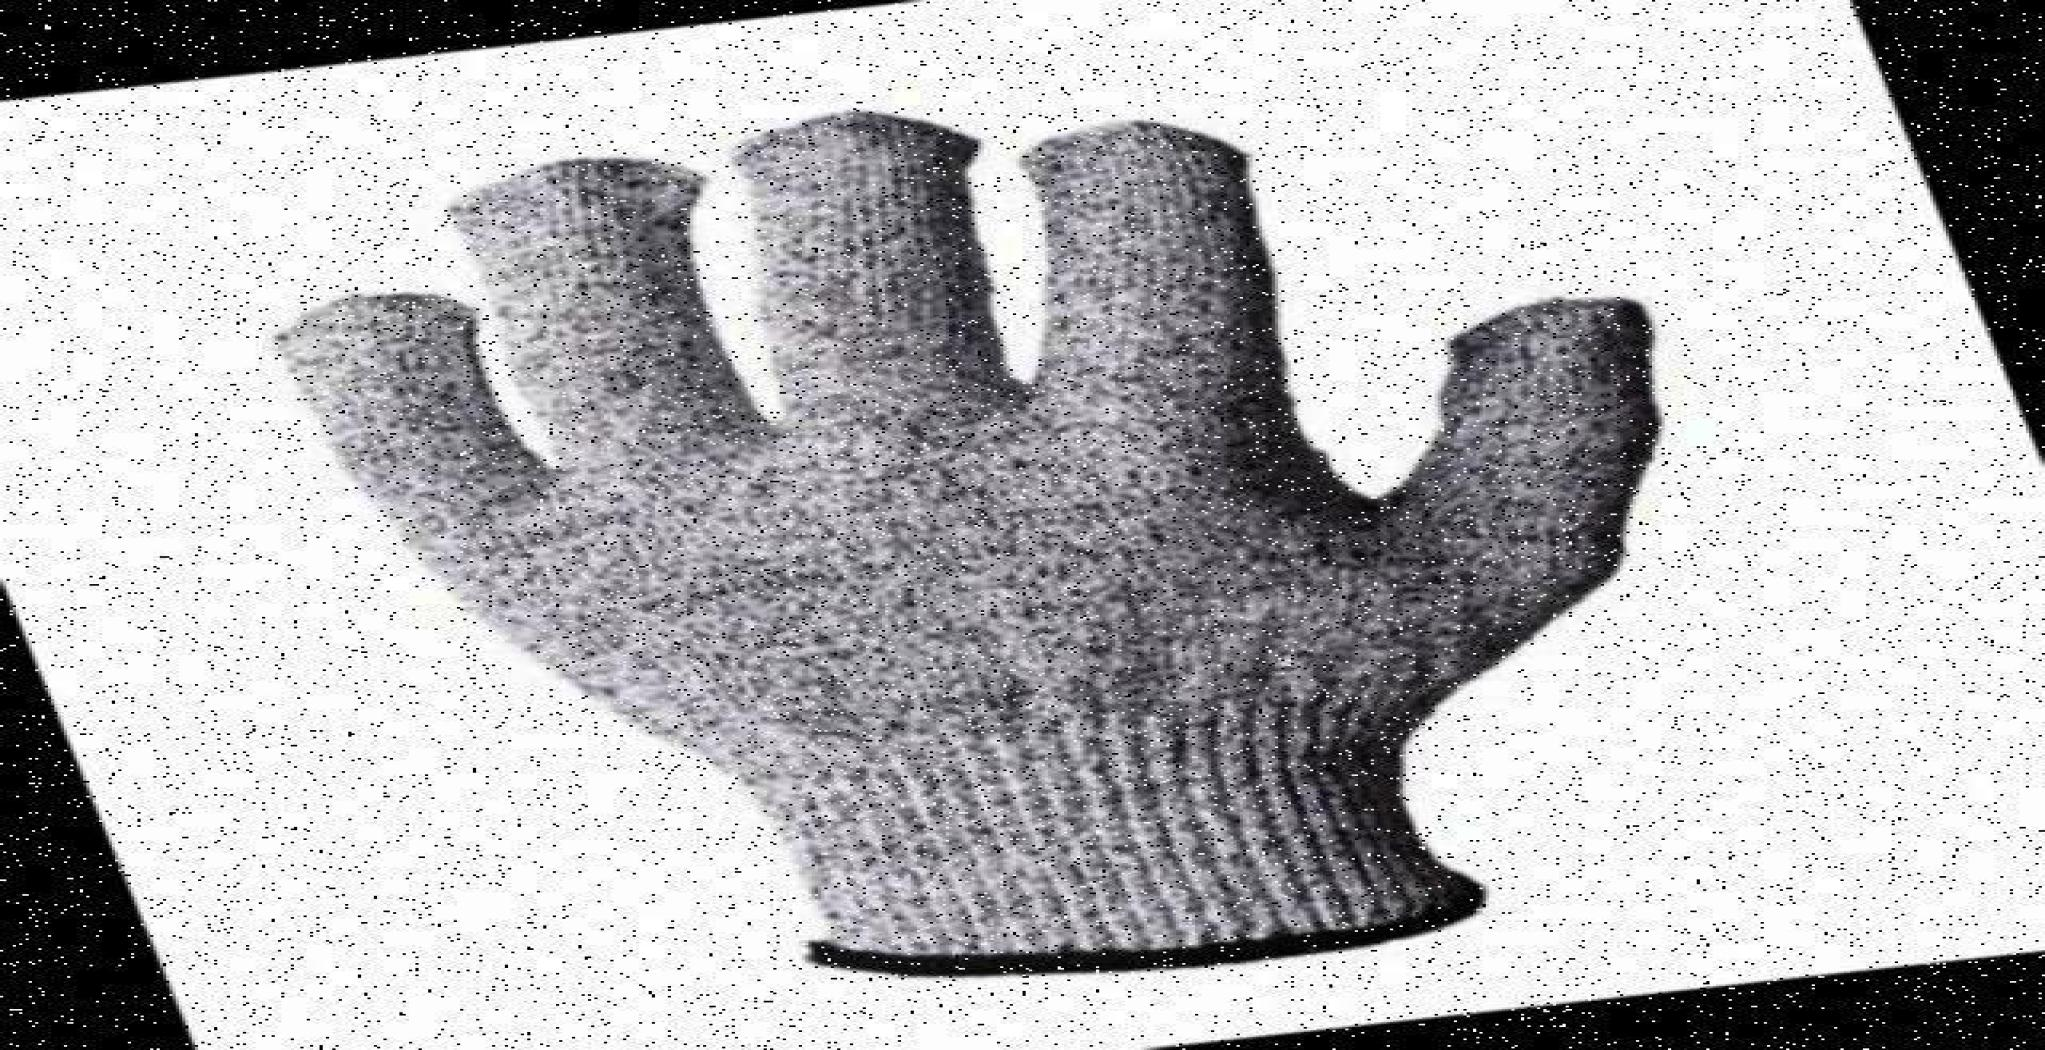gloved: (268, 108, 1662, 972)
